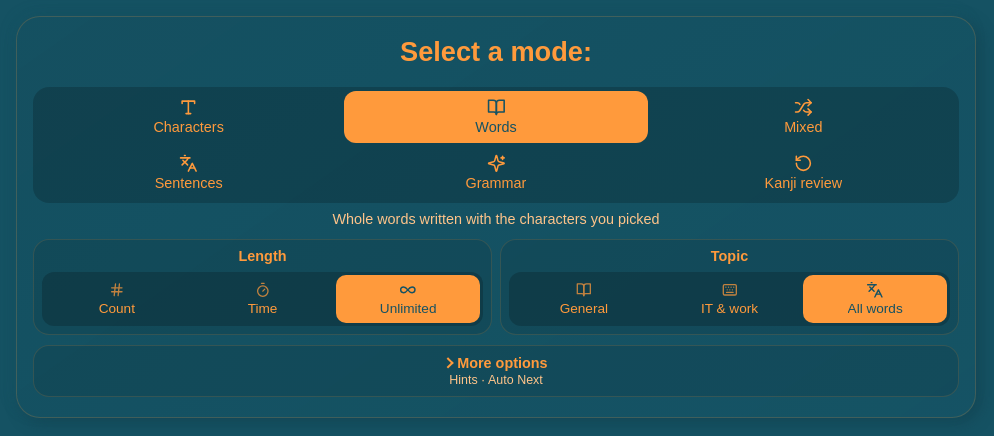
Test: word topic › is offered for words and mixed practice, and saved
Click the radio button labelled "General". click: point(584, 299)
box: [512,275,656,323]
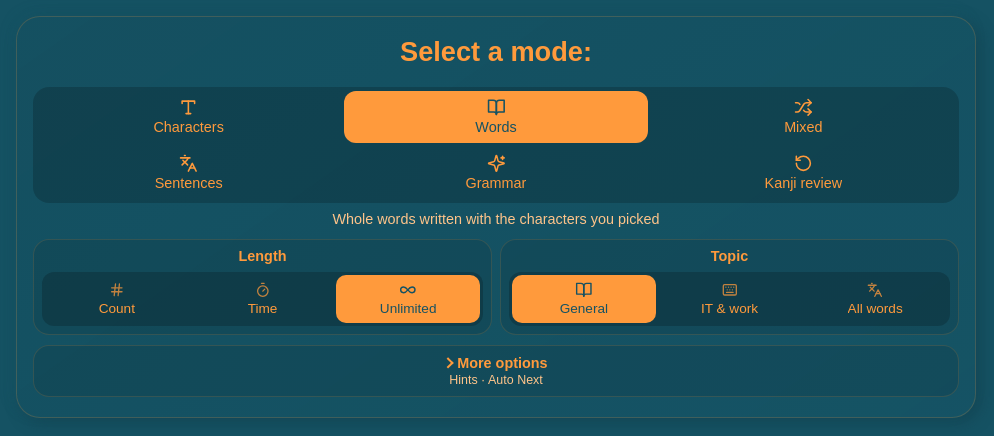
Click the radio button labelled "IT & work". click: point(730, 299)
box: [658,275,801,323]
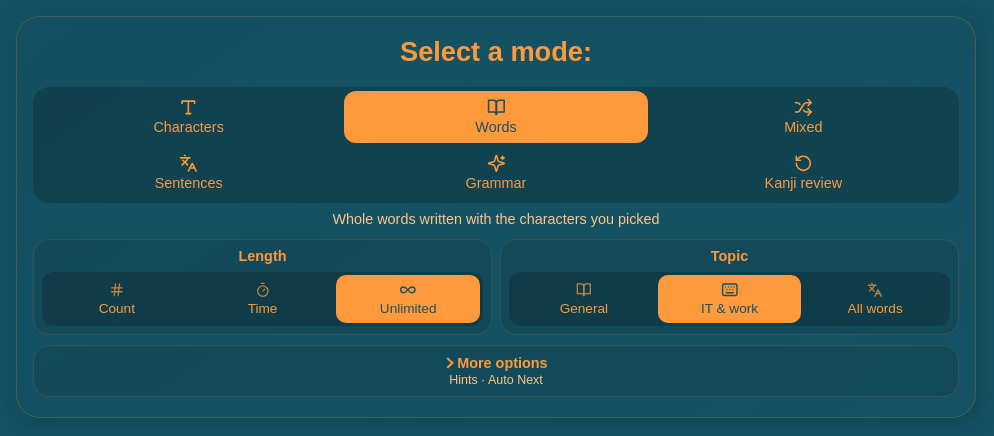
Click the tab "Mixed". click: point(803, 117)
box: [652,91,955,143]
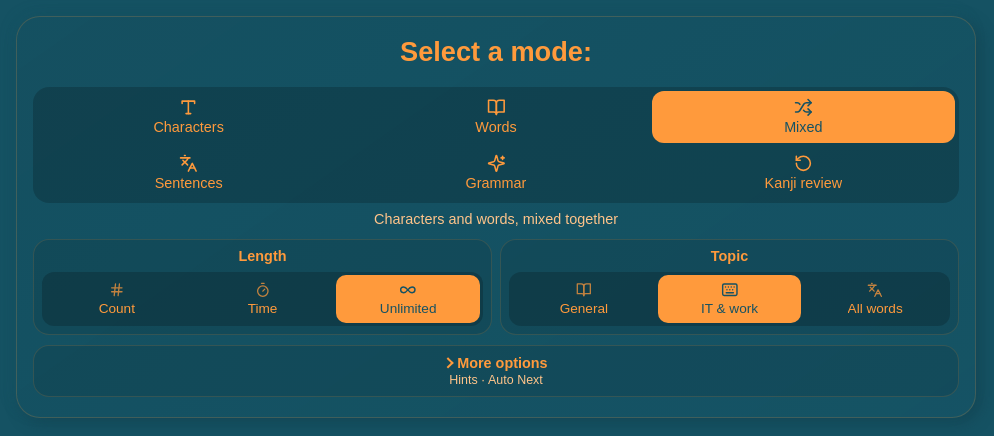
expect the element named "Topic" is shown: met, box [509,272,950,326]
Click the tab "Characters". click: point(189, 117)
box: [37,91,340,143]
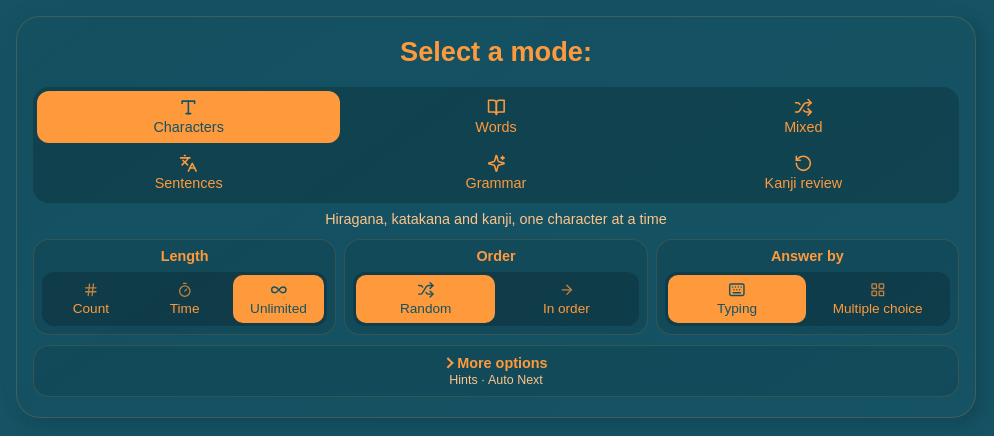
expect the text "Topic" is gone: met
